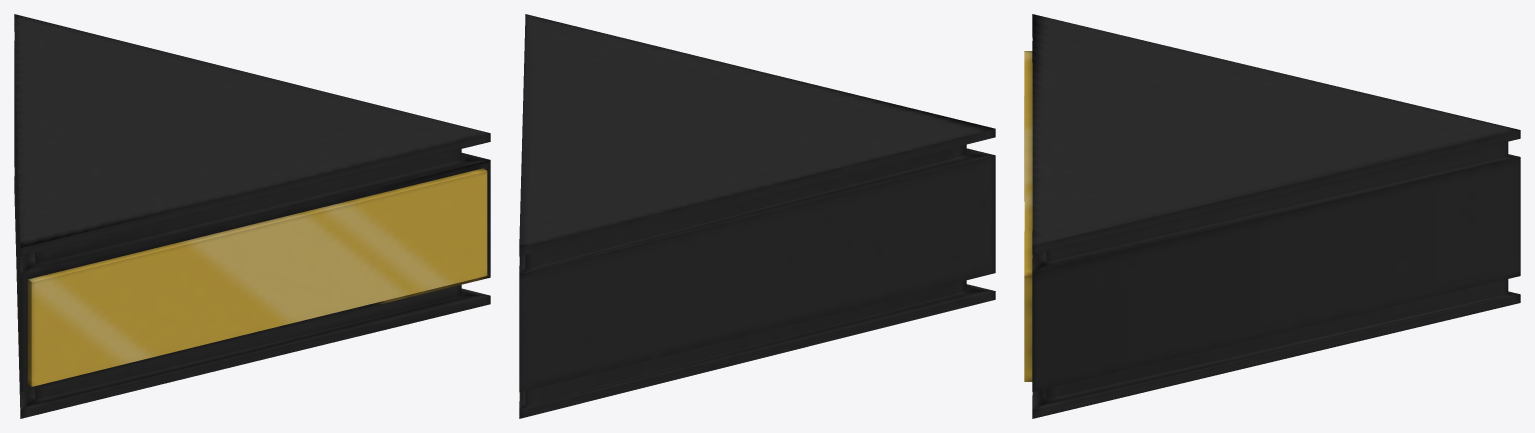
File: Triangular_Base.FBX
3 views of the same model, side by side, from view 1: azimuth 30°, elevation 25°; view 2: azimuth 150°, elevation 25°; view 3: azimuth 270°, elevation 25° (orthographic).
Parts seen in each view (by area): view 1: Triangular_Base; view 2: Triangular_Base; view 3: Triangular_Base.
Part boxes in pixels (left/top/right/bottom): Triangular_Base: left=14, top=14, right=490, bottom=418; Triangular_Base: left=519, top=14, right=995, bottom=418; Triangular_Base: left=1024, top=14, right=1520, bottom=418.
Bounding box in the file's own units: 11.51 × 4 × 10.41.
